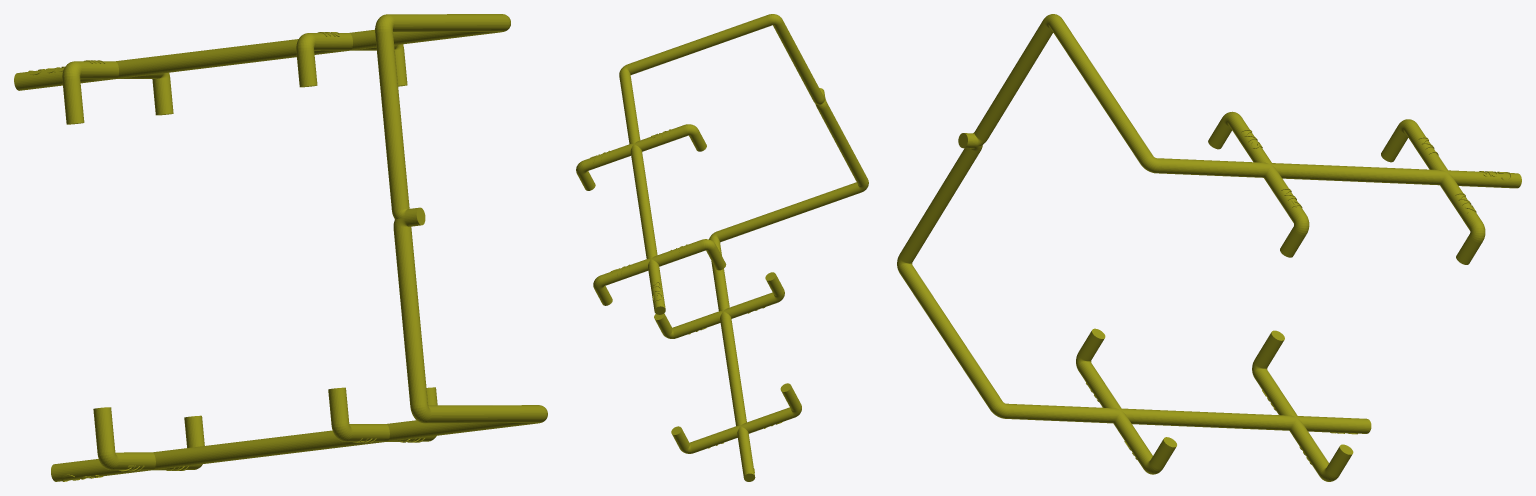
The model's file is pipe line.glb.
3 renders of one model, left to right at view 1: azimuth 30°, elevation 25°; view 2: azimuth 150°, elevation 25°; view 3: azimuth 270°, elevation 25°, orthographic. The views are drawn at different scales.
Visible parts, largest first — view 1: pipe line; view 2: pipe line; view 3: pipe line.
Part boxes in pixels (<box>): pipe line: <box>14,14,547,481</box>; pipe line: <box>576,14,868,481</box>; pipe line: <box>897,14,1521,481</box>.
Size of the model in its own units: 448 by 695 by 822.
